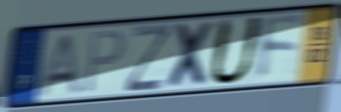A: (33, 31, 84, 97)
F: (256, 14, 305, 84)
P: (82, 27, 127, 96)
U: (206, 15, 267, 88)
X: (165, 19, 218, 90)
Z: (123, 21, 176, 95)
